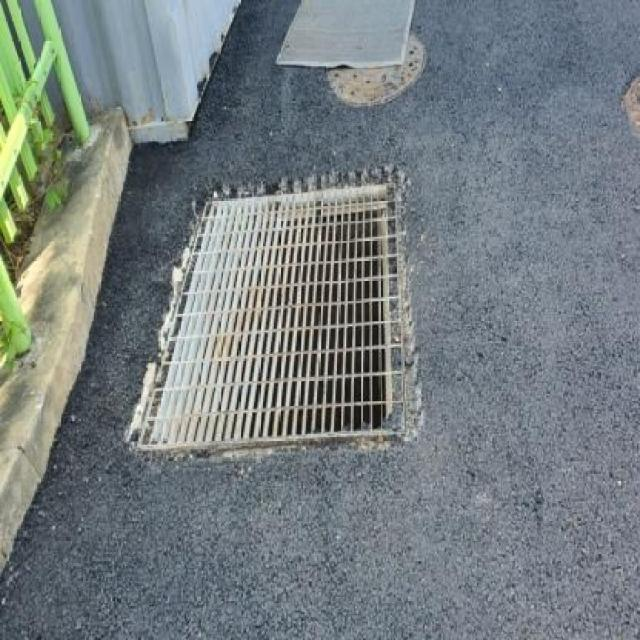Drain Hole: (104, 143, 447, 485)
